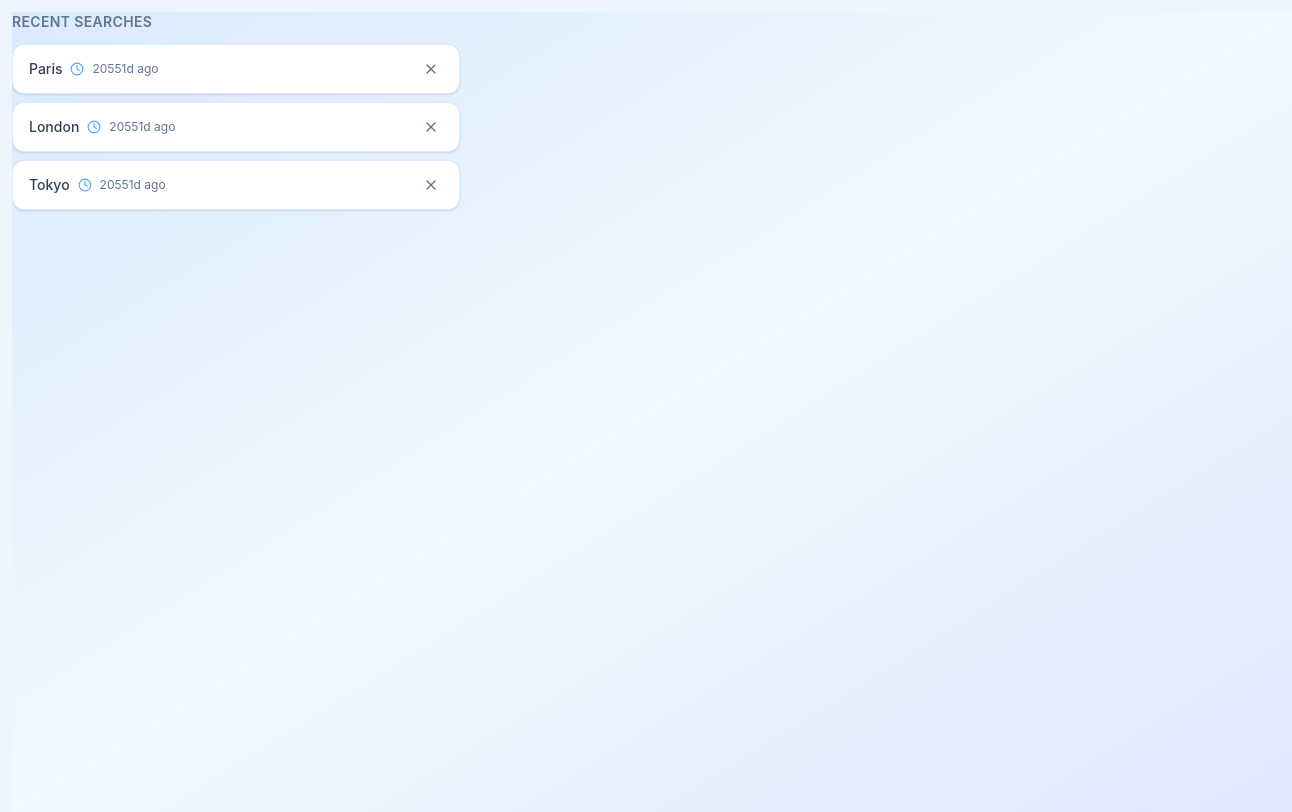
Test: Remove and undo flow integration › undo › restores the item at its original position
Click the button named "remove paris" at x=431, y=69, box [419, 57, 443, 81]
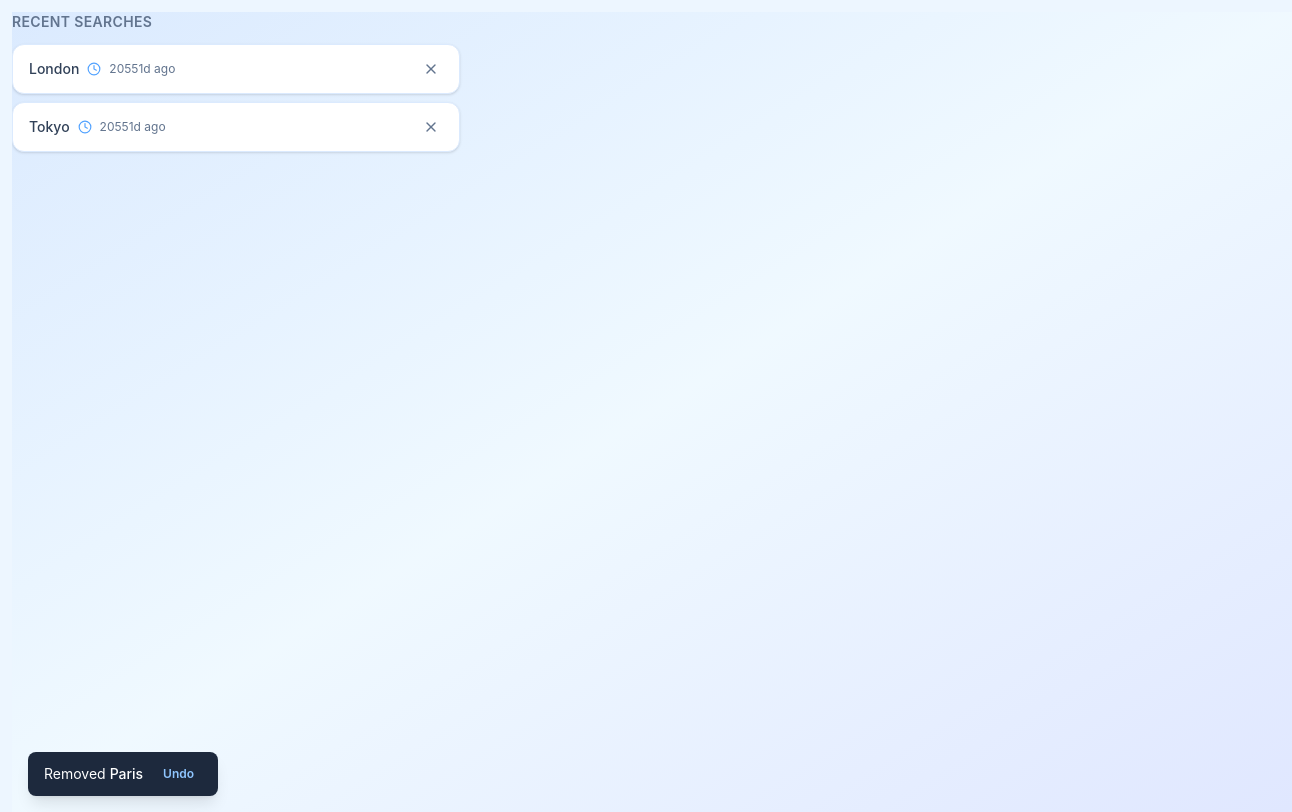
Click the button "Undo" at x=179, y=774, box [155, 764, 202, 784]
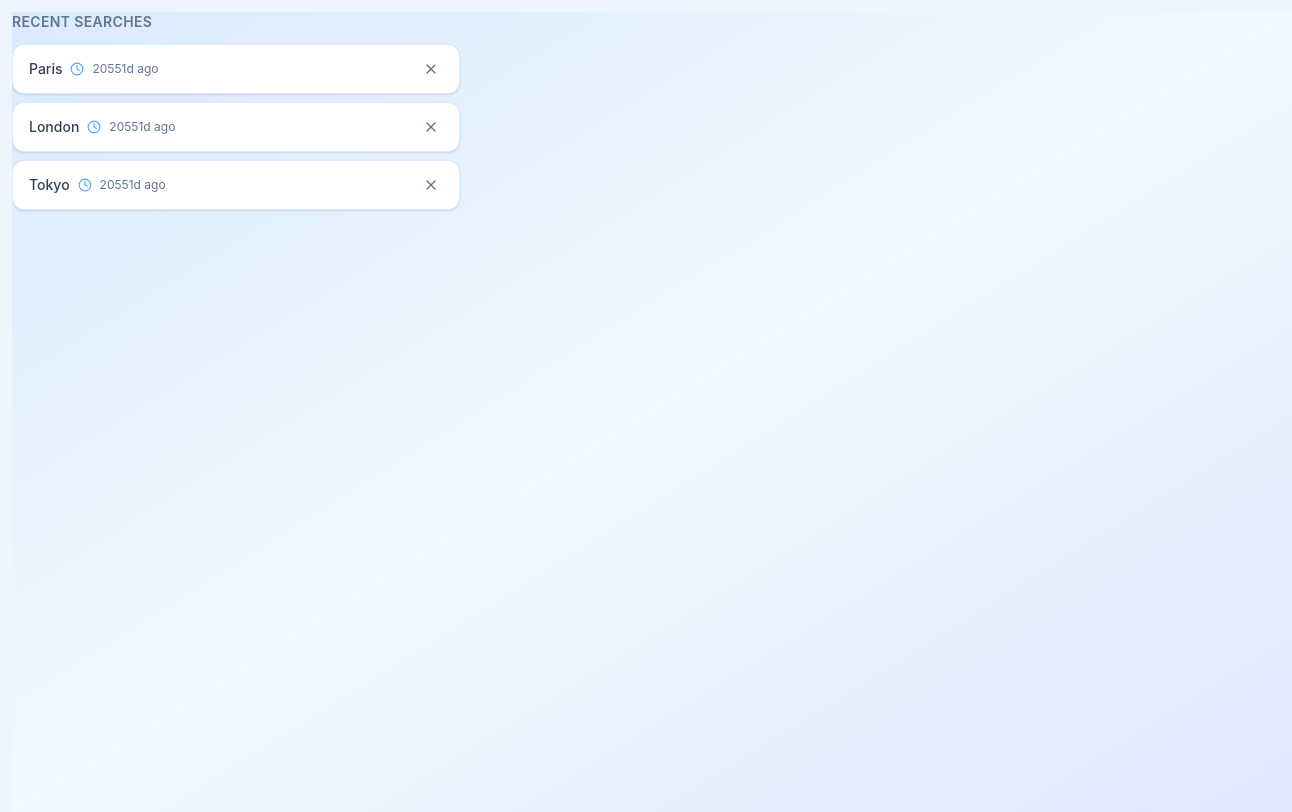
Expected: the list item "London 20551d ago" is shown, [12, 102, 460, 152]
Expected: the list item "Paris 20551d ago" is shown, [12, 44, 460, 94]
